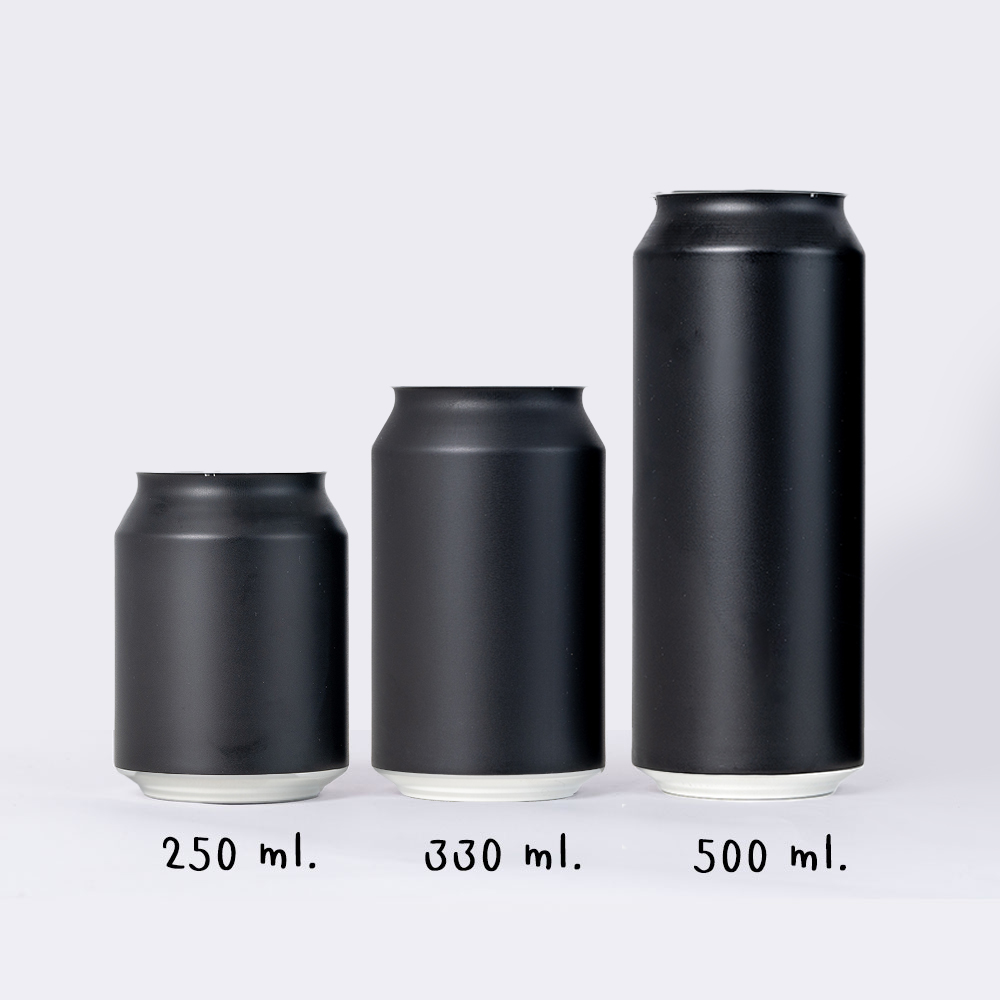can: (623, 179, 890, 808), (366, 383, 618, 807), (105, 458, 359, 812)
